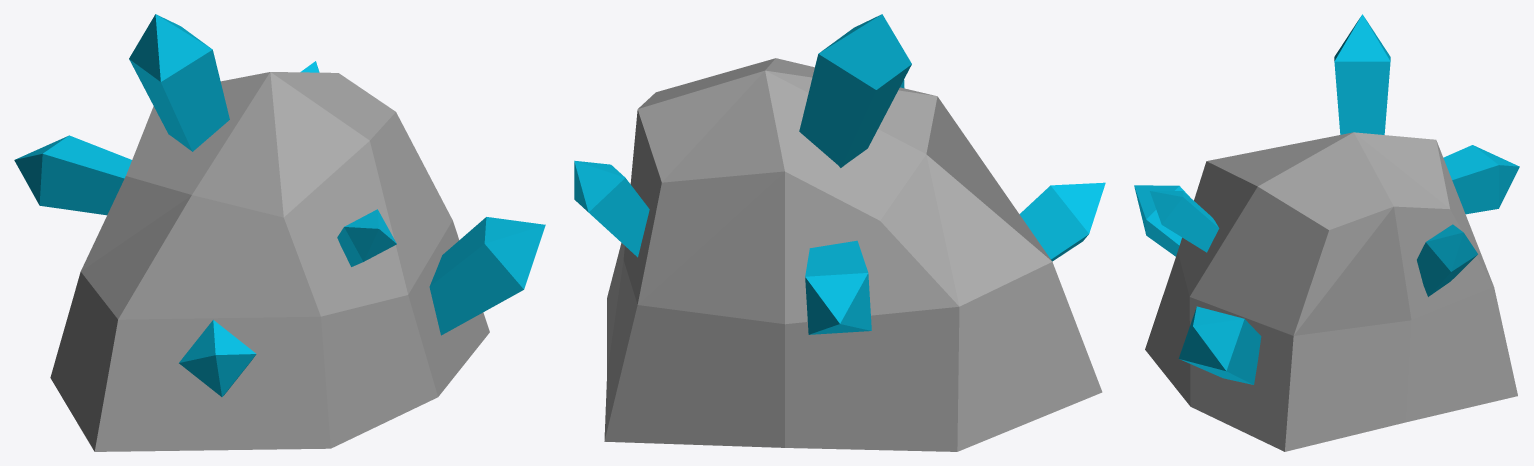
File: ore1.fbx
The picture shows the model from 3 angles, left to right: view 1: azimuth 30°, elevation 25°; view 2: azimuth 150°, elevation 25°; view 3: azimuth 270°, elevation 25°; orthographic projection. The views are drawn at different scales.
Parts seen in each view (by area): view 1: Cube.012, Cube.003; view 2: Cube.012, Cube.003; view 3: Cube.012, Cube.003.
Part boxes in pixels (x1,y1,x2,y2): Cube.012: [50, 72, 489, 451]; Cube.003: [14, 14, 545, 396]; Cube.012: [604, 58, 1102, 451]; Cube.003: [574, 14, 1105, 334]; Cube.012: [1145, 132, 1517, 451]; Cube.003: [1134, 14, 1519, 384].
Bounding box in the file's own units: 502 × 404 × 451.
